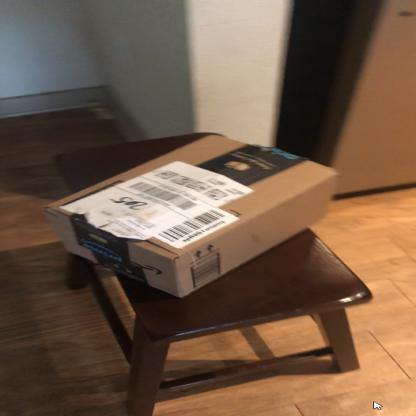package: (37, 132, 352, 304)
